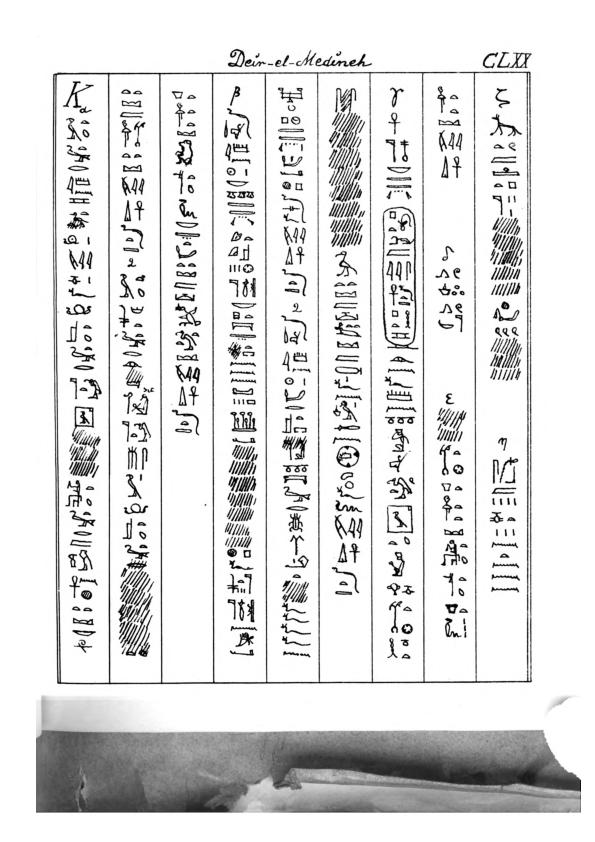circle: (380, 205, 422, 353)
